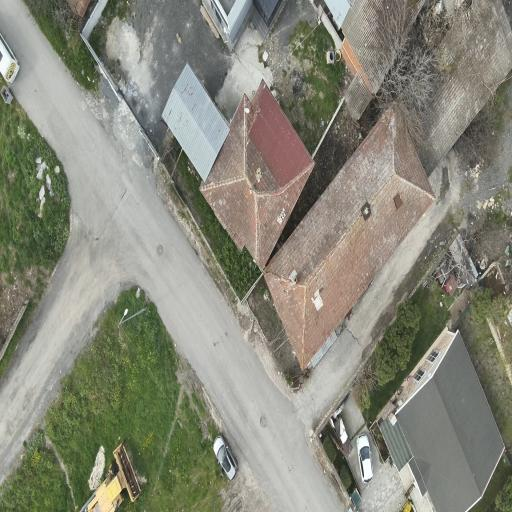bus: (0, 34, 19, 83)
car: (214, 435, 237, 480), (357, 434, 373, 483)
harvester: (81, 442, 140, 511)
